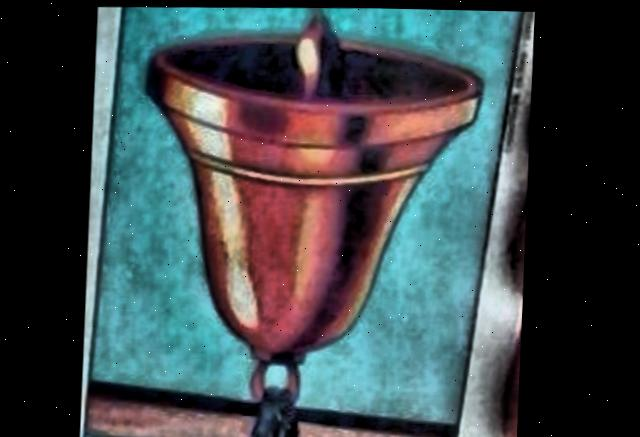La Campana: (90, 6, 521, 437)
